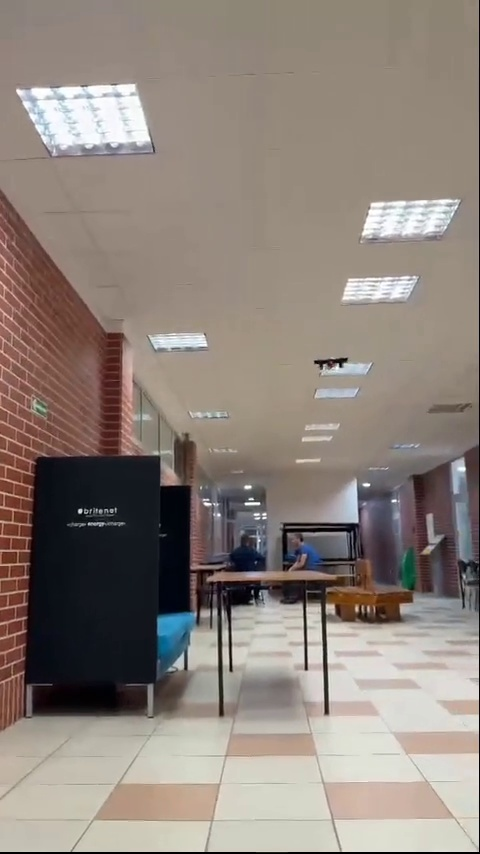drone: (313, 357, 350, 375)
no vest: (224, 530, 268, 571), (282, 533, 313, 572)
